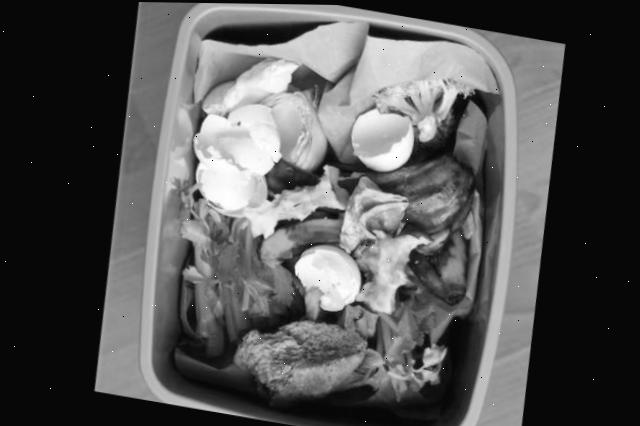Garbage: (171, 23, 495, 403)
